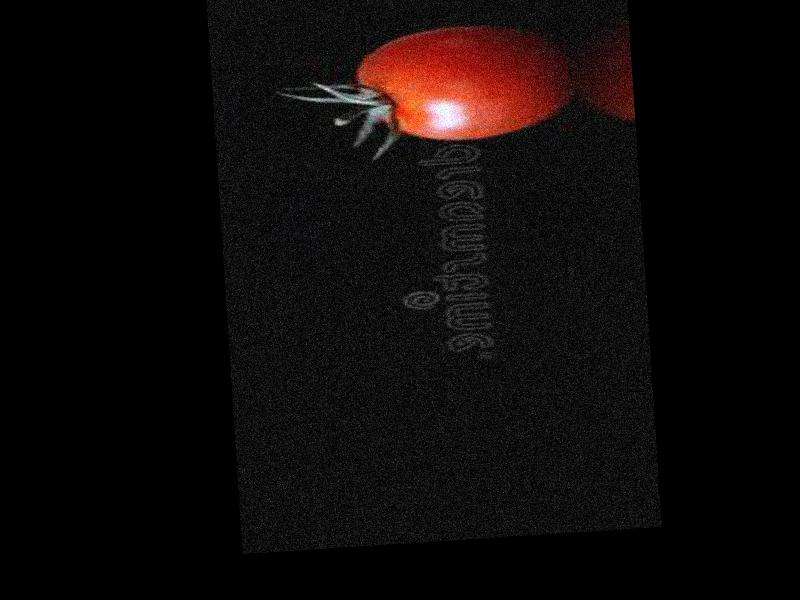Tomato: (352, 20, 572, 146)
